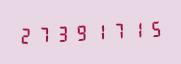five: (143, 17, 160, 40)
nine: (71, 21, 88, 44)
one: (89, 20, 106, 43), (125, 18, 142, 41)
seven: (35, 22, 52, 45), (107, 19, 124, 42)
three: (53, 21, 70, 45)
two: (17, 23, 34, 46)
